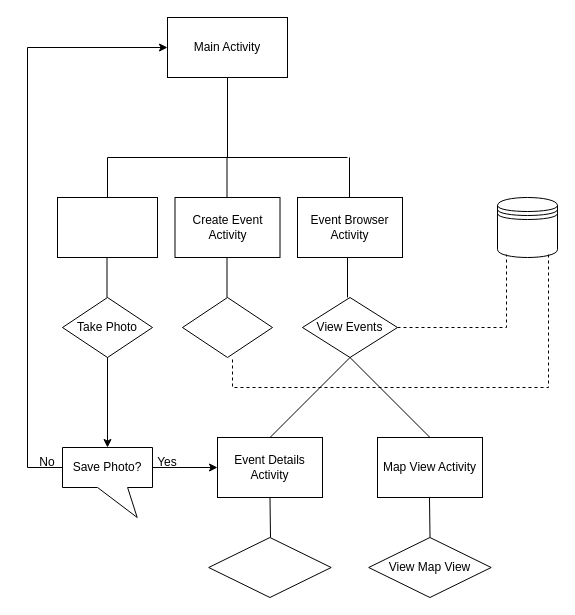
Some shapes in this 575 by 615 pixel diagram are drawn without their labels. The box of each missing label's shape, as (x1, y1, x2, y2) in pixels:
Create Event: (182, 296, 272, 358)
EventDB: (496, 196, 558, 258)
Take a Photo: (56, 196, 158, 258)
View Events List: (208, 536, 331, 598)
